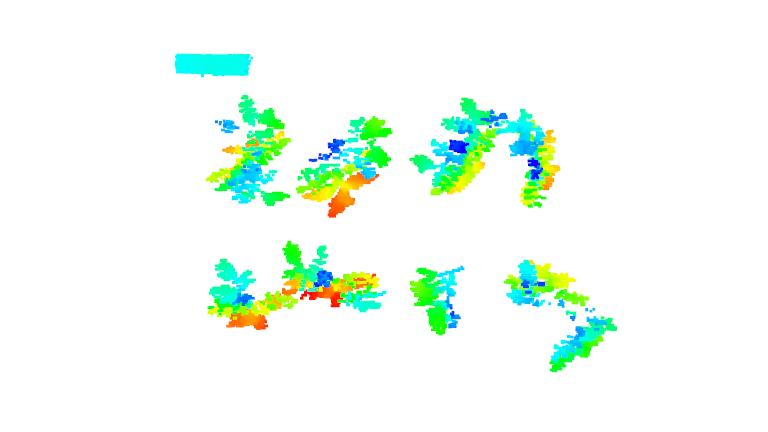chickpea: (293, 115, 394, 216), (212, 92, 293, 211), (411, 94, 505, 196), (279, 240, 392, 319), (207, 256, 286, 333), (501, 105, 558, 210), (546, 315, 621, 373), (503, 258, 588, 308), (412, 261, 465, 339)
